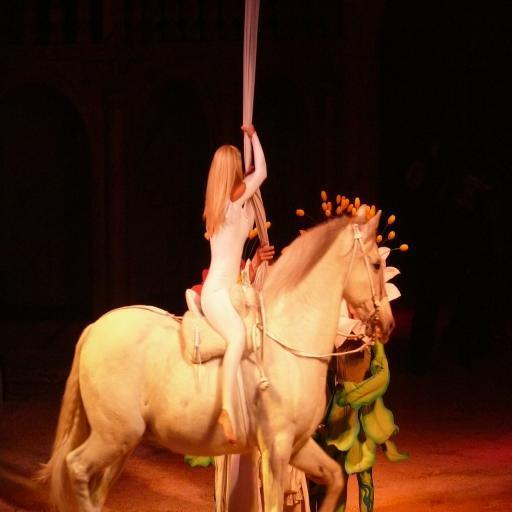horse: (32, 206, 394, 512)
